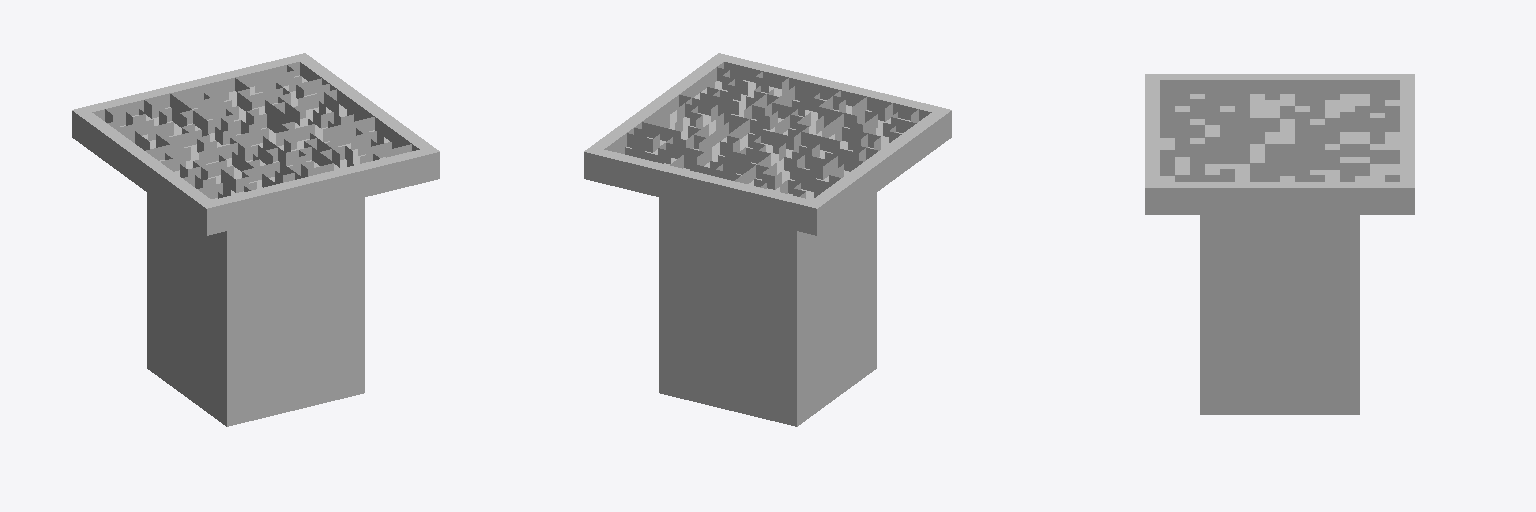
File: maze_board.obj
The picture shows the model from 3 angles: view 1: azimuth 30°, elevation 25°; view 2: azimuth 150°, elevation 25°; view 3: azimuth 270°, elevation 25°; orthographic projection.
Parts seen in each view (by area): view 1: Plane; view 2: Plane; view 3: Plane.
Boxes of the visible parts, x1,y1,x2,y2 form: Plane: [72, 53, 439, 426]; Plane: [584, 53, 951, 426]; Plane: [1145, 74, 1414, 414].
Bounding box in the file's own units: 2.25 × 2.3 × 2.25.